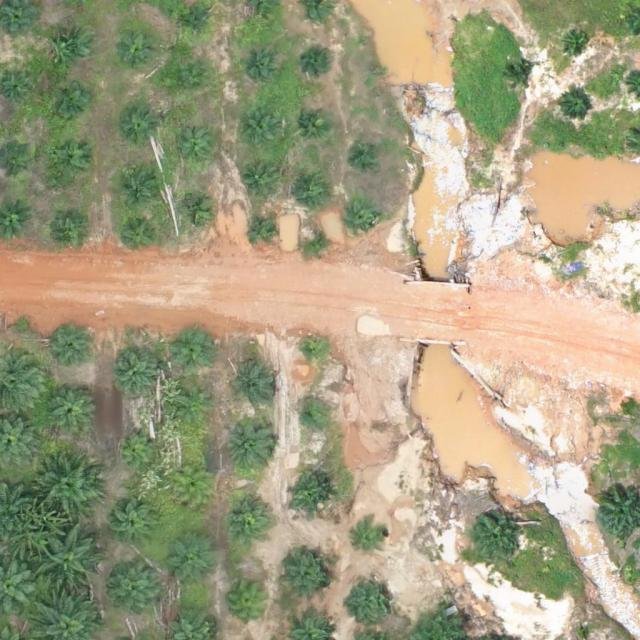Grass: (55, 30, 94, 70)
Healthy: (40, 533, 102, 596), (36, 456, 98, 518), (108, 564, 163, 619), (110, 347, 165, 402), (45, 383, 99, 438), (229, 421, 276, 469)
Small: (281, 552, 336, 607), (470, 514, 524, 569), (229, 360, 276, 408), (48, 326, 95, 374), (286, 473, 333, 521), (350, 575, 397, 623), (109, 501, 156, 548), (170, 541, 217, 588), (224, 495, 271, 542), (228, 578, 275, 625), (50, 138, 90, 178), (49, 205, 89, 245), (294, 170, 334, 210), (169, 65, 209, 104), (240, 110, 279, 150), (122, 167, 161, 207), (120, 107, 159, 147), (119, 216, 159, 255), (175, 329, 214, 369), (179, 389, 218, 429), (179, 192, 218, 232), (240, 161, 280, 200), (353, 518, 392, 558), (51, 85, 90, 124), (121, 32, 160, 71), (241, 50, 280, 89), (116, 431, 155, 470), (176, 131, 215, 170), (294, 105, 333, 144), (249, 214, 280, 246), (303, 227, 334, 259), (305, 50, 336, 81), (560, 92, 591, 123), (347, 206, 378, 237), (353, 141, 384, 172), (298, 336, 329, 367), (296, 403, 327, 434), (562, 27, 593, 58), (505, 62, 536, 93), (182, 9, 213, 40)
Yellow: (172, 468, 212, 507)
